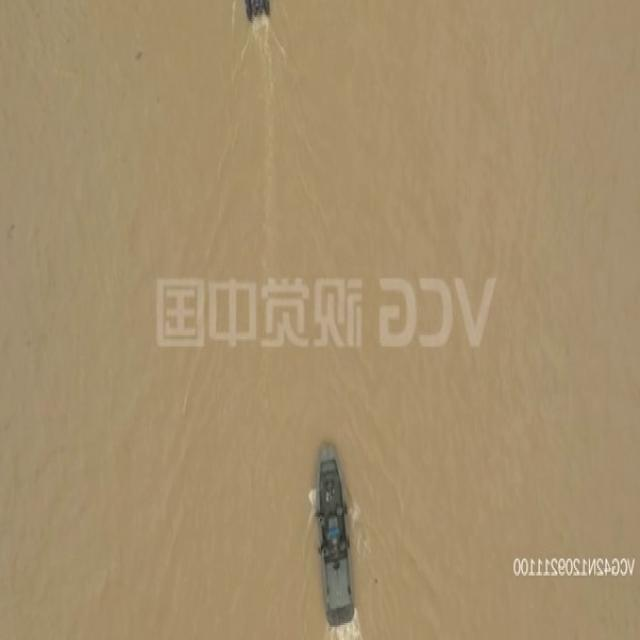houseboat: (314, 428, 355, 626), (241, 0, 272, 19)
